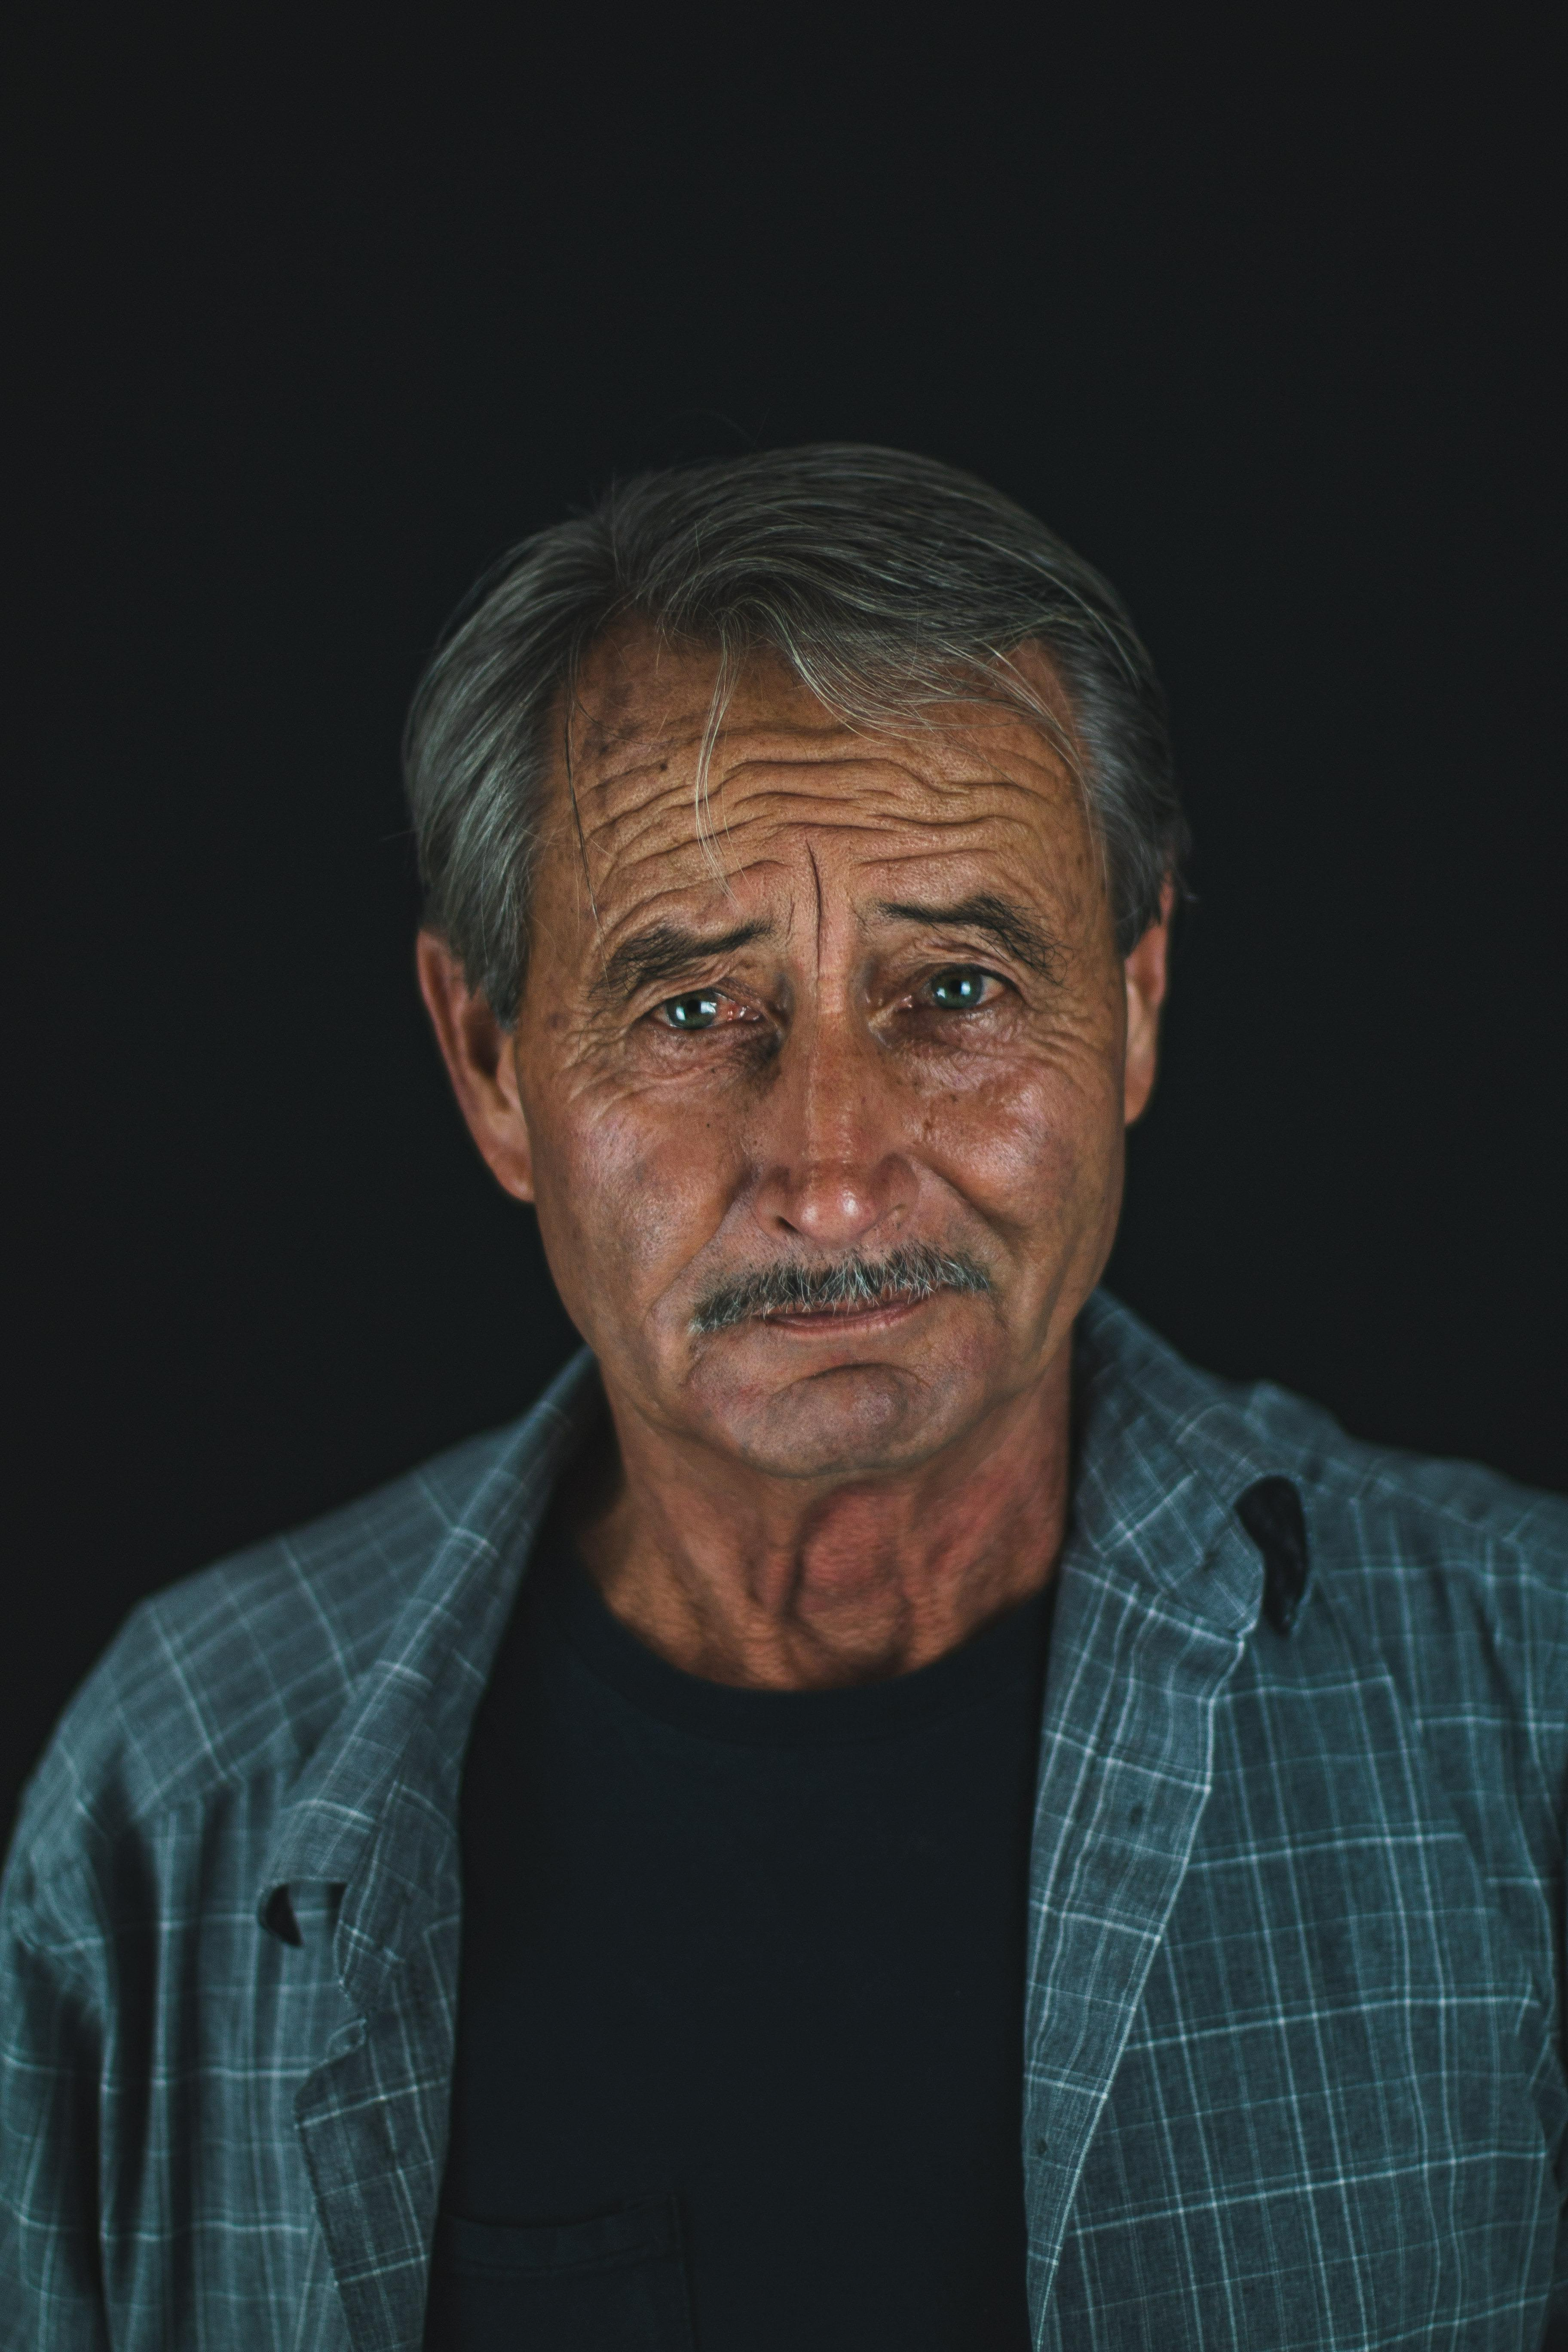Wrinkles: (604, 859, 791, 936), (625, 812, 773, 868), (730, 759, 961, 794), (581, 784, 682, 847), (574, 759, 663, 805), (602, 822, 656, 880), (952, 782, 1059, 808), (667, 772, 738, 810), (870, 814, 1036, 829), (1036, 1027, 1115, 1057), (805, 847, 822, 973), (1001, 747, 1059, 779), (598, 1088, 653, 1120), (864, 849, 997, 861), (719, 721, 847, 733), (735, 791, 854, 803), (777, 821, 896, 831), (569, 1078, 611, 1104), (861, 789, 899, 796)
